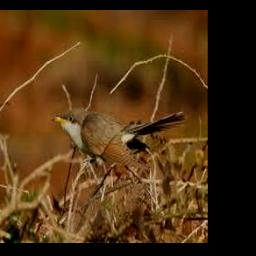Cuckoo: (50, 109, 184, 166)
